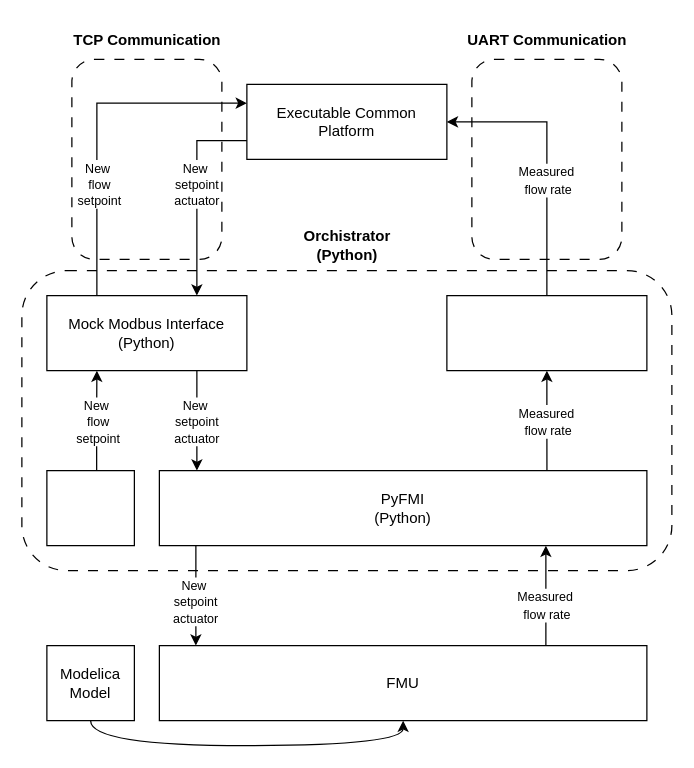
Image size: 694x768. Some labels were removed from this diagram. The shapes that lost their labels are listed below. From the top down, each one's centre as x and y in pixels, then its label:
At (x=546, y=332): "Mock FSB Interface (Python)".
At (x=90, y=507): "User / Client system".
